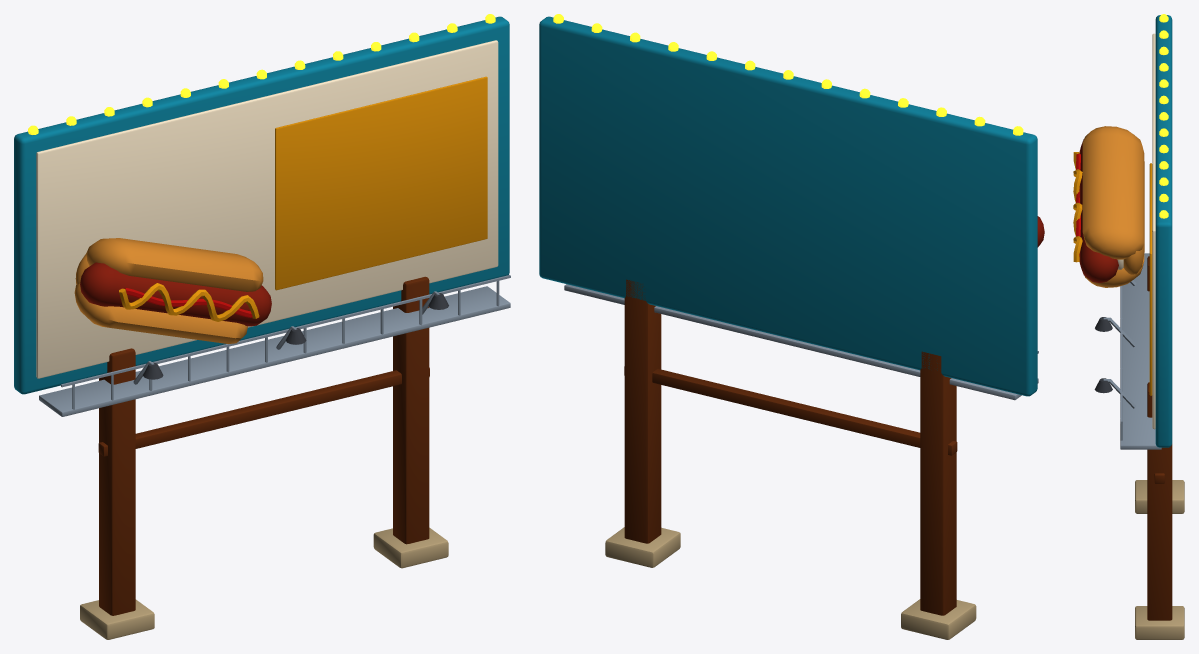
The model's file is Billboard.fbx.
The picture shows the model from 3 angles, left to right: view 1: azimuth 30°, elevation 25°; view 2: azimuth 150°, elevation 25°; view 3: azimuth 270°, elevation 25°; orthographic projection. The views are drawn at different scales.
Visible parts, largest first — view 1: Billboard; view 2: Billboard; view 3: Billboard.
Boxes of the visible parts, x1,y1,x2,y2 form: Billboard: (14,14,510,639); Billboard: (539,14,1044,639); Billboard: (1073,14,1184,639).
Bounding box in the file's own units: 12 × 12.12 × 2.68.
